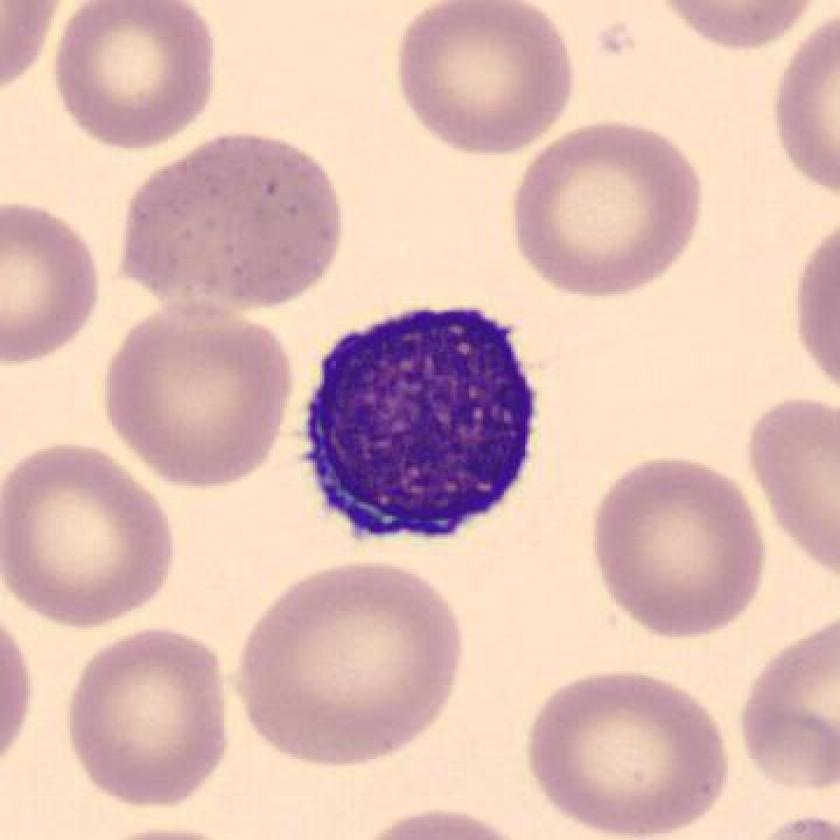lymphocyte: (295, 293, 552, 561)
